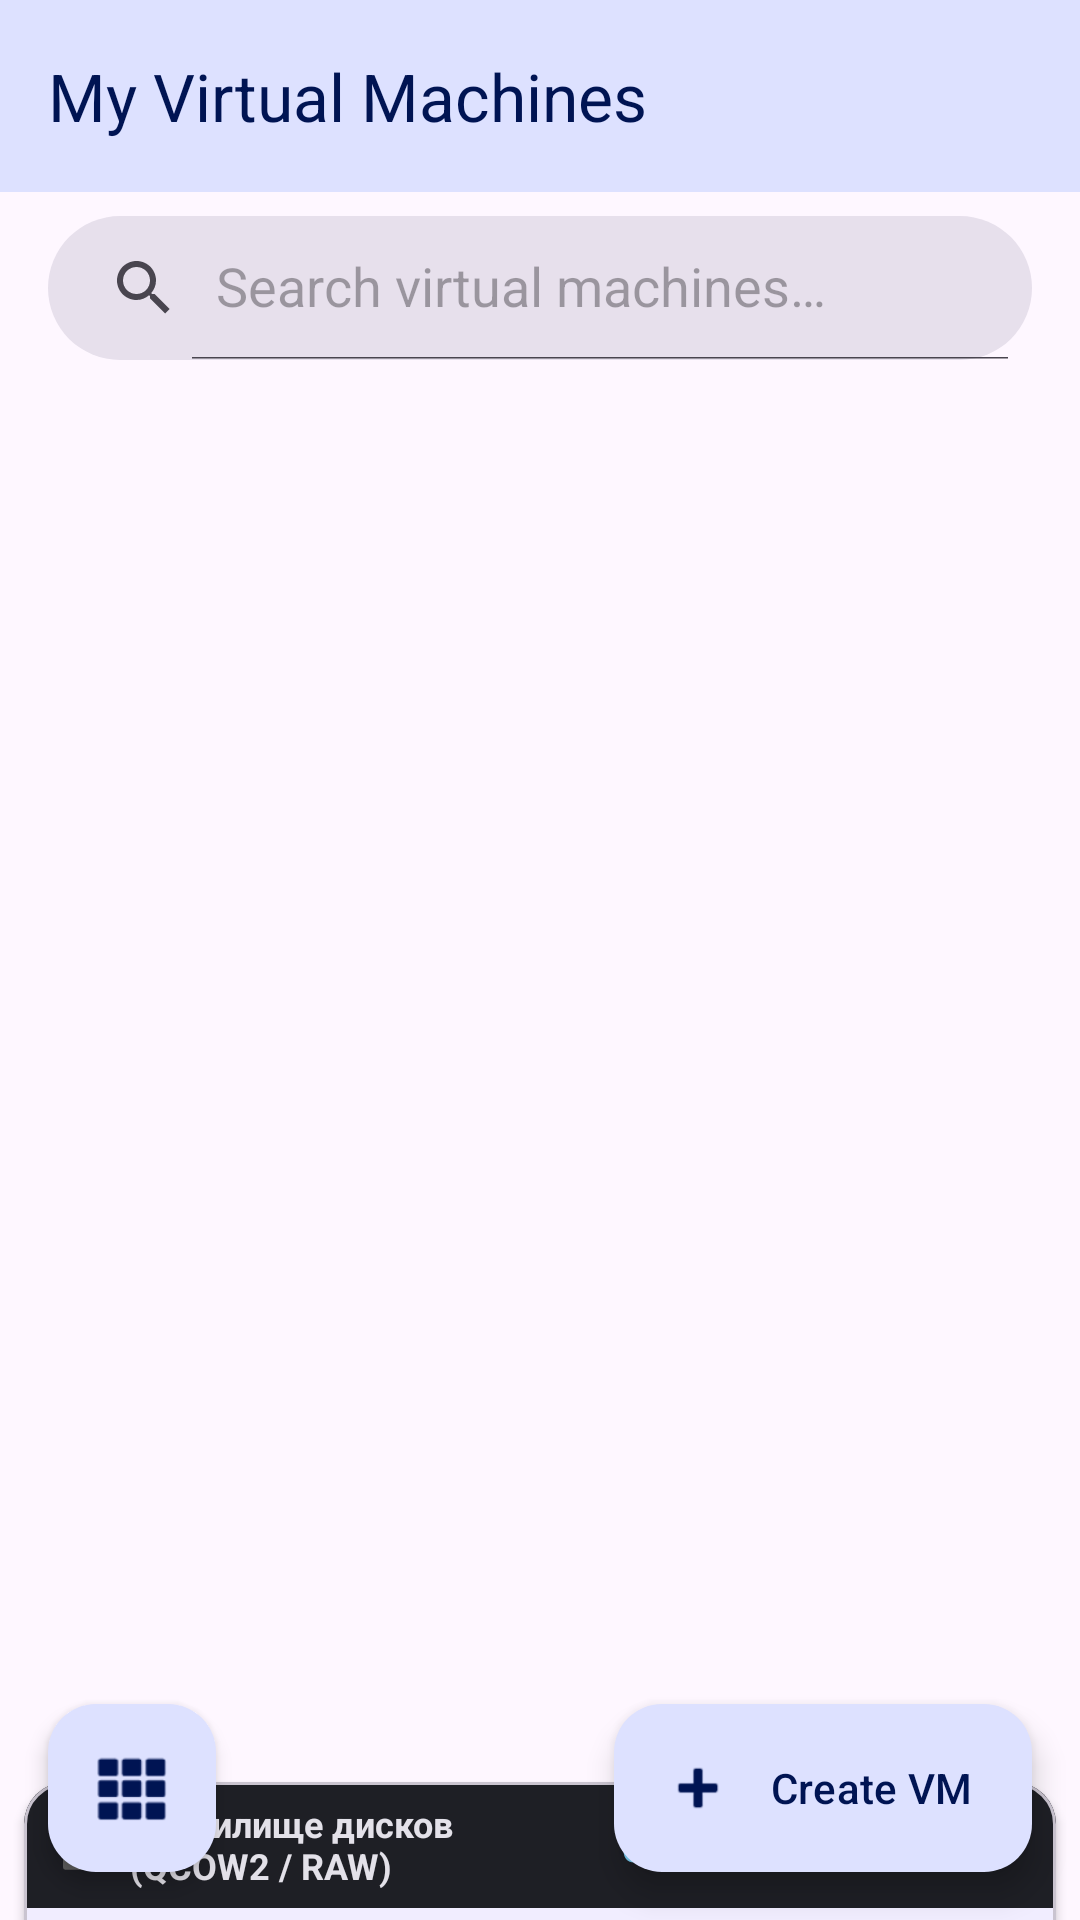

Icons on this 1080 x 1920 Android screen, each with the point to tap as (x,y):
Quick Actions: (132,1788)
